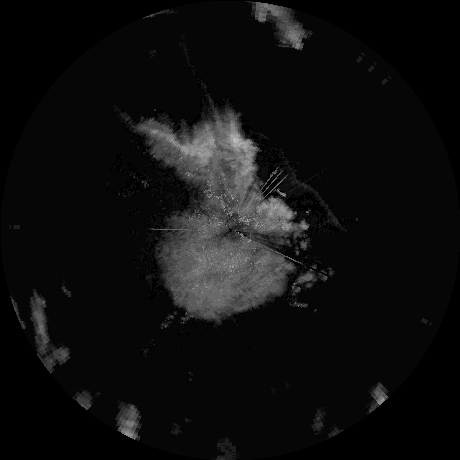frontgust: (277, 154, 346, 229)
